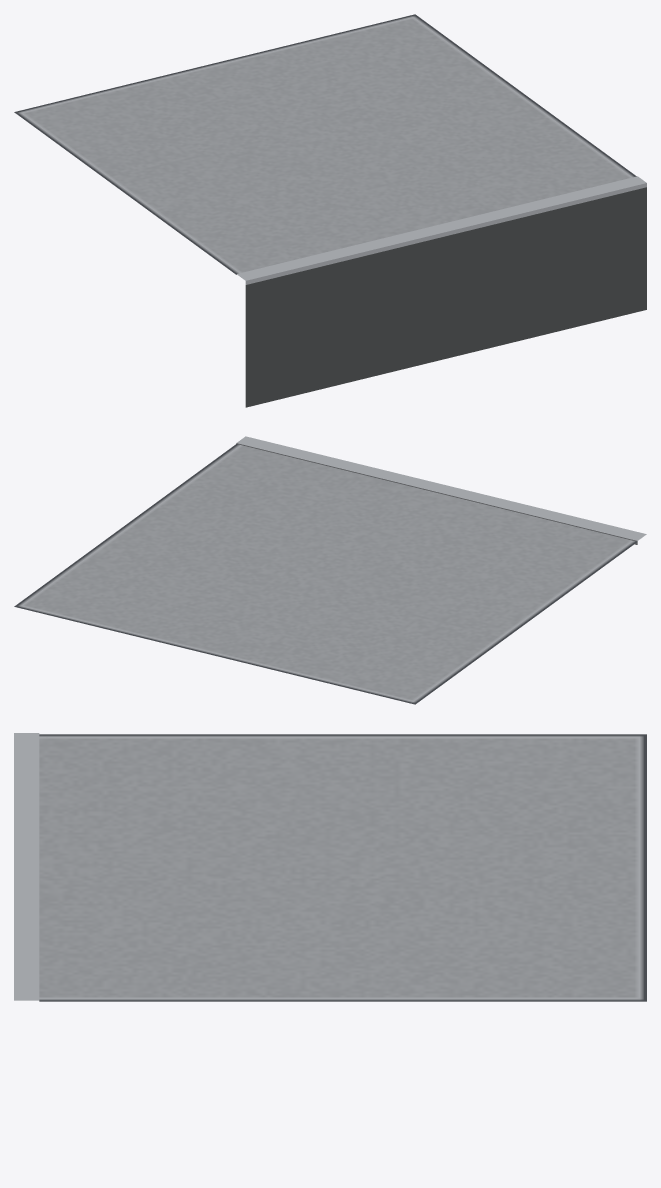
File: Floor_Edge_1m.glb
3 renders of one model, top to bottom at view 1: azimuth 30°, elevation 25°; view 2: azimuth 150°, elevation 25°; view 3: azimuth 270°, elevation 25°, orthographic. The views are drawn at different scales.
Visible parts, largest first — view 1: Floor_Edge_1m; view 2: Floor_Edge_1m; view 3: Floor_Edge_1m.
Boxes of the visible parts, x1,y1,x2,y2 form: Floor_Edge_1m: [14, 14, 646, 407]; Floor_Edge_1m: [14, 436, 646, 704]; Floor_Edge_1m: [14, 733, 646, 1001].
Size of what is drawn, in the model's own units: 1 by 0.302 by 1.
Materials: 3 (1 with a texture image).
